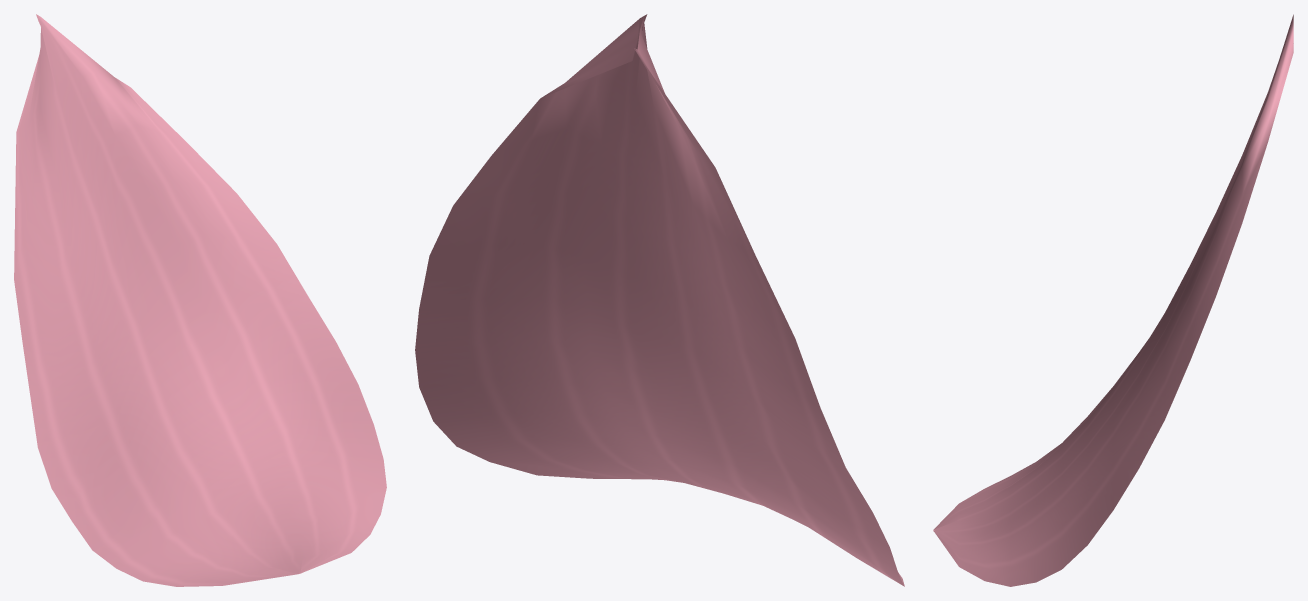
Rendered from petal_10_curved.glb.
3 renders of one model, left to right at view 1: azimuth 30°, elevation 25°; view 2: azimuth 150°, elevation 25°; view 3: azimuth 270°, elevation 25°, orthographic. The views are drawn at different scales.
Visible parts, largest first — view 1: petal_10_curved; view 2: petal_10_curved; view 3: petal_10_curved.
Boxes of the visible parts, x1=… form: petal_10_curved: x1=14, y1=14, x2=386, y2=586; petal_10_curved: x1=415, y1=14, x2=904, y2=586; petal_10_curved: x1=933, y1=14, x2=1293, y2=586.
Size of the model in its own units: 0.0855 by 0.1212 by 0.0827.
Materials: 1 (1 with a texture image).
